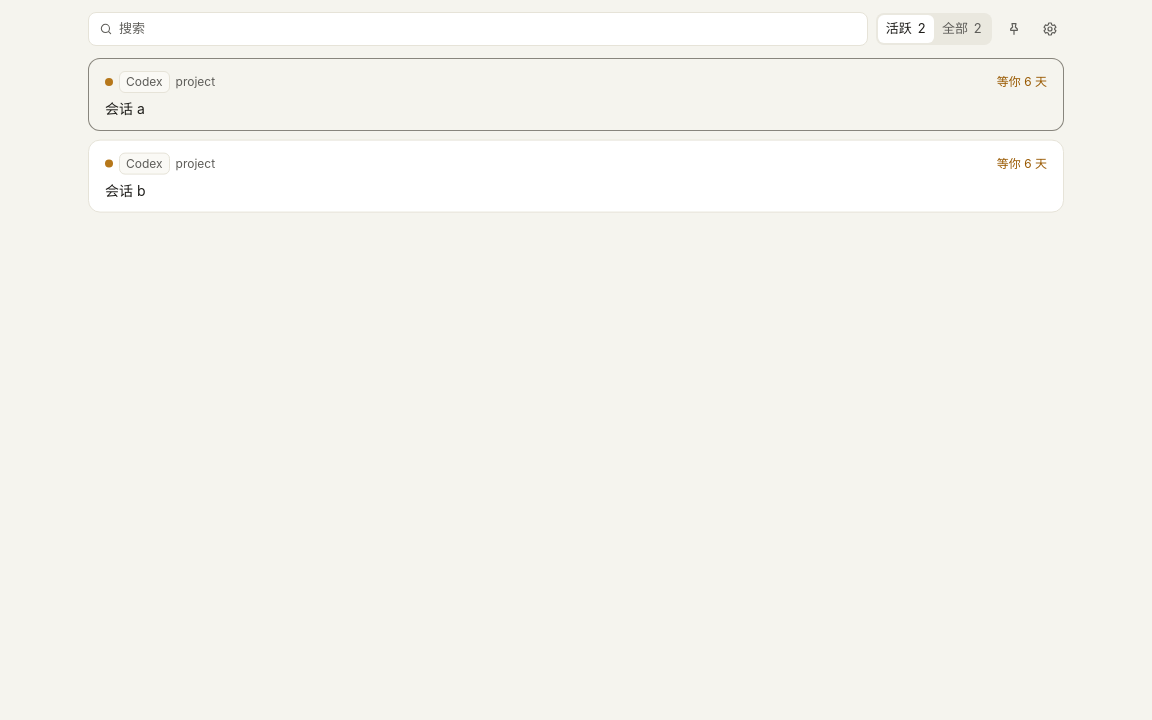
Test: T11 idea input follows pending ideas before the away summary and stays when all ideas are brought
Click the heading "会话 a": (125, 108) [105,98,145,118]
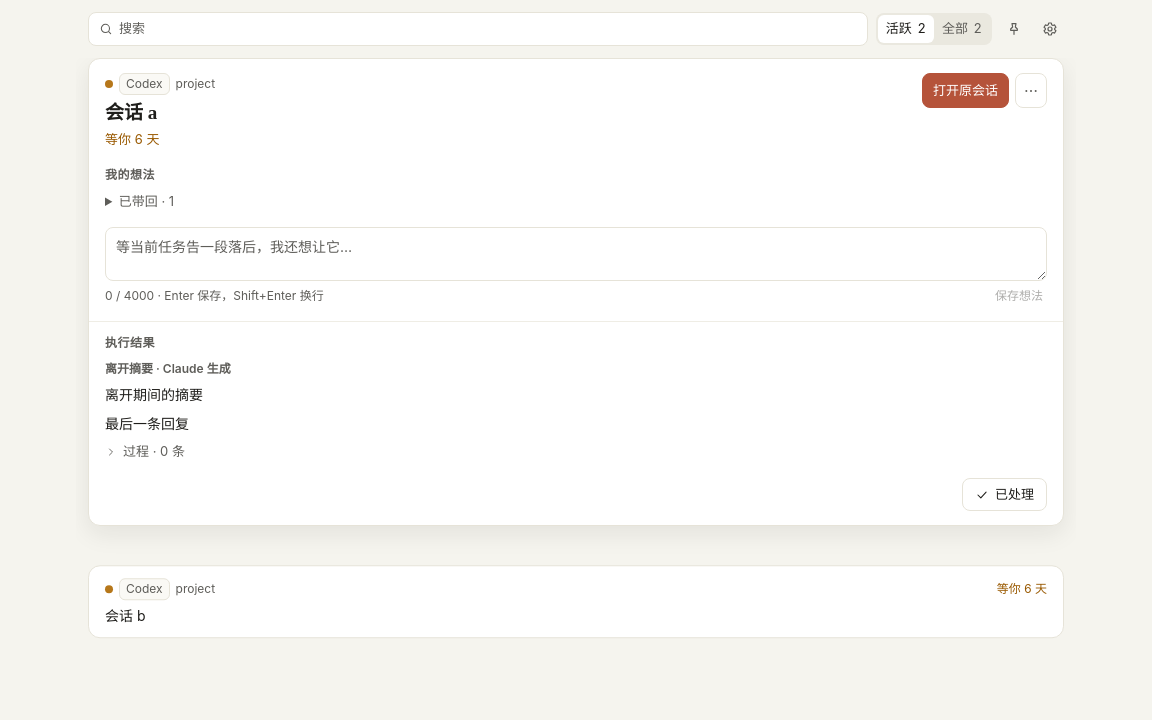
Check: the text "离开期间的摘要" is shown, box [105,386,203,403]
Check: the text "最后一条回复" is shown, box [105,415,189,432]
Check: the heading "我的想法" is shown, box [105,167,155,182]
Click the heading "已带回 · 1": (146, 201) [119,193,174,209]
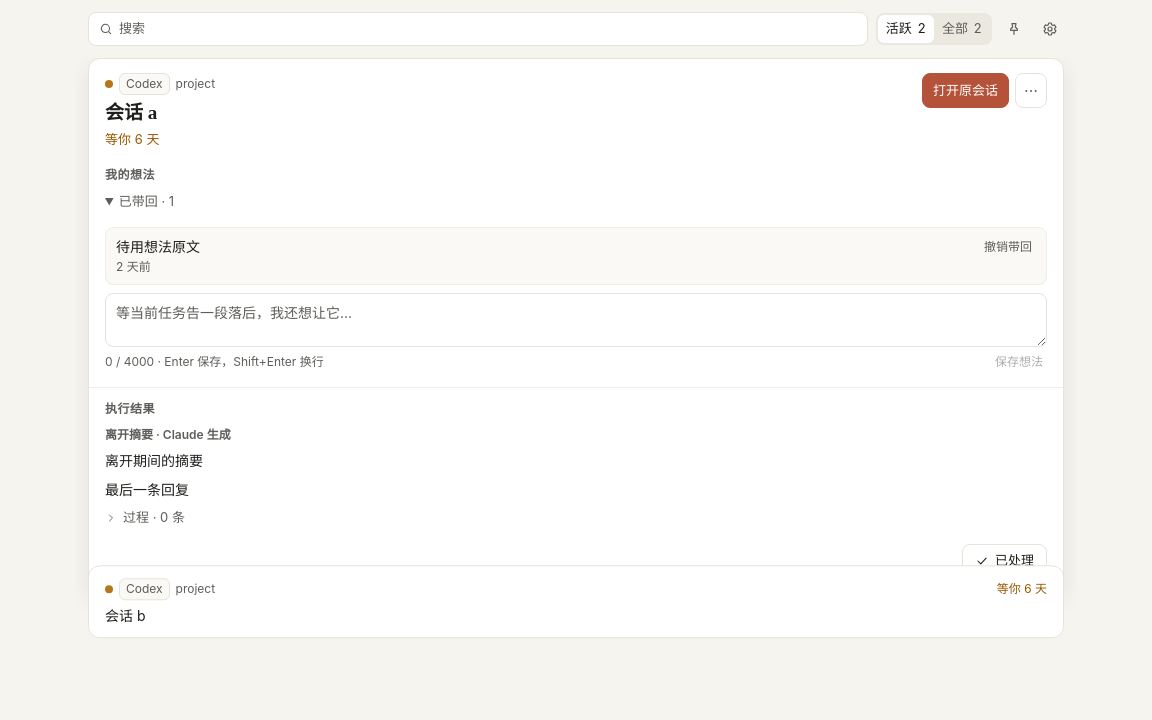
Check: the text "待用想法原文" is shown, box [116,238,200,255]
